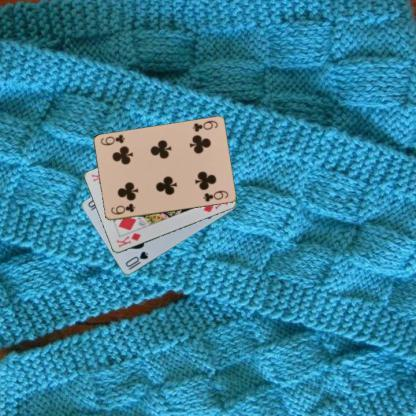10s: (123, 249, 150, 271)
6c: (190, 118, 218, 134), (108, 201, 136, 216)
Kd: (114, 230, 142, 249)
